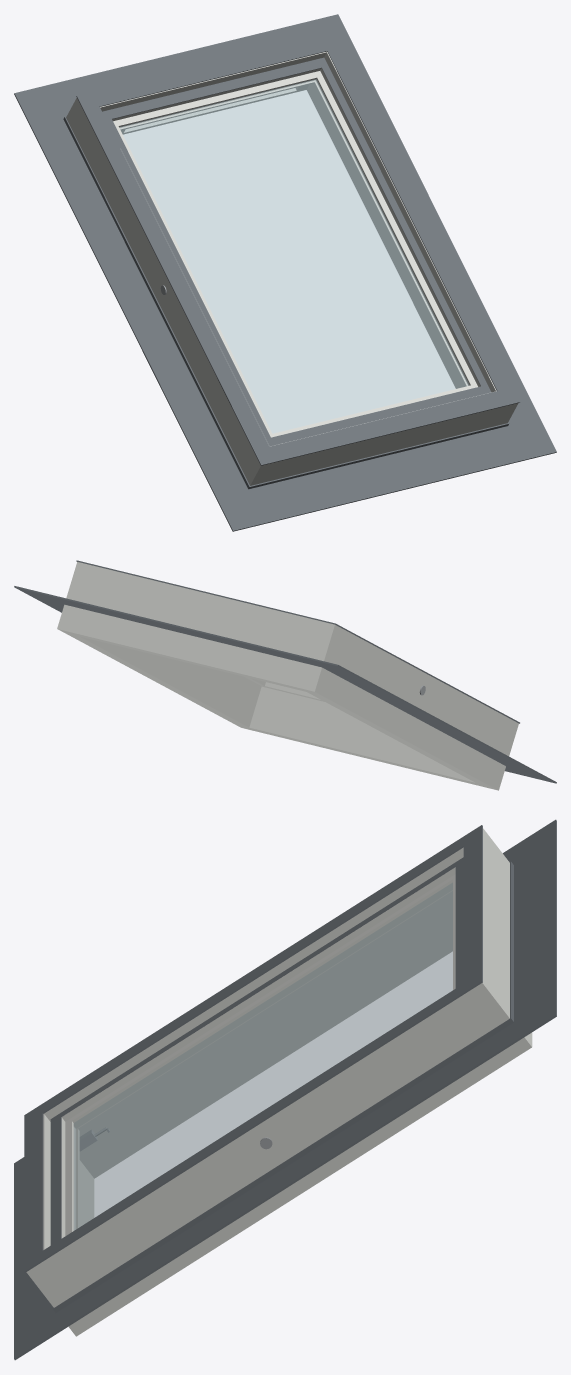
3 renders of one model, top to bottom at view 1: azimuth 30°, elevation 25°; view 2: azimuth 150°, elevation 25°; view 3: azimuth 270°, elevation 25°, orthographic. The views are drawn at different scales.
Visible parts, largest first — view 1: 10_Glazing, 02_Flashing_apron, 08_Outer_cladding, 09_Sash_with_glazing_rebate, 11_Sash_front_trim, 03_L_Frame_side_with_bore, 07_Frame_sill, 01_Lining_curb, 03_R_Frame_side_with_bore, 06_Frame_head, 14_Released_vent_bar; view 2: 01_Lining_curb, 06_Frame_head, 03_L_Frame_side_with_bore, 02_Flashing_apron, 03_R_Frame_side_with_bore, 07_Frame_sill, 08_Outer_cladding, 09_Sash_with_glazing_rebate; view 3: 10_Glazing, 02_Flashing_apron, 03_R_Frame_side_with_bore, 01_Lining_curb, 08_Outer_cladding, 09_Sash_with_glazing_rebate, 03_L_Frame_side_with_bore, 11_Sash_front_trim, 06_Frame_head, 07_Frame_sill.
Part boxes in pixels (x1,y1,x2,y2): 10_Glazing: [119, 79, 469, 433]; 02_Flashing_apron: [14, 14, 556, 531]; 08_Outer_cladding: [76, 32, 519, 465]; 09_Sash_with_glazing_rebate: [112, 68, 480, 437]; 11_Sash_front_trim: [102, 57, 491, 446]; 03_L_Frame_side_with_bore: [66, 98, 275, 485]; 07_Frame_sill: [266, 391, 502, 481]; 01_Lining_curb: [123, 83, 465, 388]; 03_R_Frame_side_with_bore: [324, 52, 518, 426]; 06_Frame_head: [100, 51, 326, 111]; 14_Released_vent_bar: [122, 88, 301, 133]; 01_Lining_curb: [57, 604, 505, 790]; 06_Frame_head: [82, 565, 319, 657]; 03_L_Frame_side_with_bore: [308, 621, 518, 756]; 02_Flashing_apron: [14, 586, 556, 783]; 03_R_Frame_side_with_bore: [66, 562, 261, 698]; 07_Frame_sill: [258, 686, 368, 725]; 08_Outer_cladding: [76, 560, 519, 723]; 09_Sash_with_glazing_rebate: [244, 676, 324, 701]; 10_Glazing: [73, 883, 452, 1230]; 02_Flashing_apron: [14, 819, 556, 1360]; 03_R_Frame_side_with_bore: [26, 975, 509, 1307]; 01_Lining_curb: [68, 910, 532, 1336]; 08_Outer_cladding: [24, 825, 482, 1272]; 09_Sash_with_glazing_rebate: [61, 867, 455, 1238]; 03_L_Frame_side_with_bore: [43, 828, 509, 1136]; 11_Sash_front_trim: [50, 857, 463, 1245]; 06_Frame_head: [483, 838, 509, 1008]; 07_Frame_sill: [43, 1114, 50, 1249].
Bounding box in the file's own units: 0.98 × 0.8396 × 1.15.
